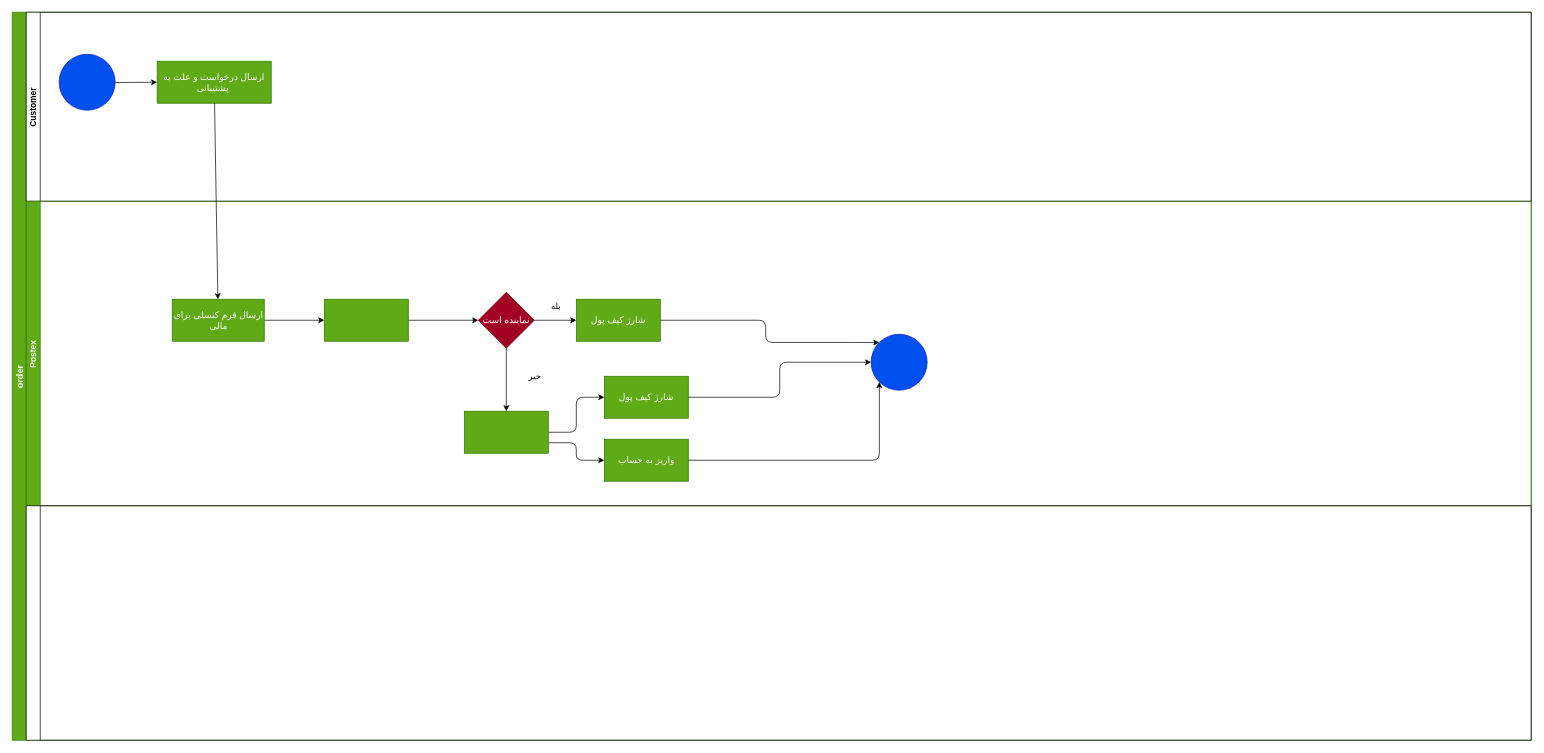
Some shapes in this 1544 by 753 pixel diagram are drawn without their labels. The centre of each missing label's shape, as x and y in pixels:
Vendor: the point at 778,622
شروع: the point at 86,82
مشتری هست: the point at 506,432
پایان: the point at 898,362
کنسل سفارش توسط مالی: the point at 366,320
